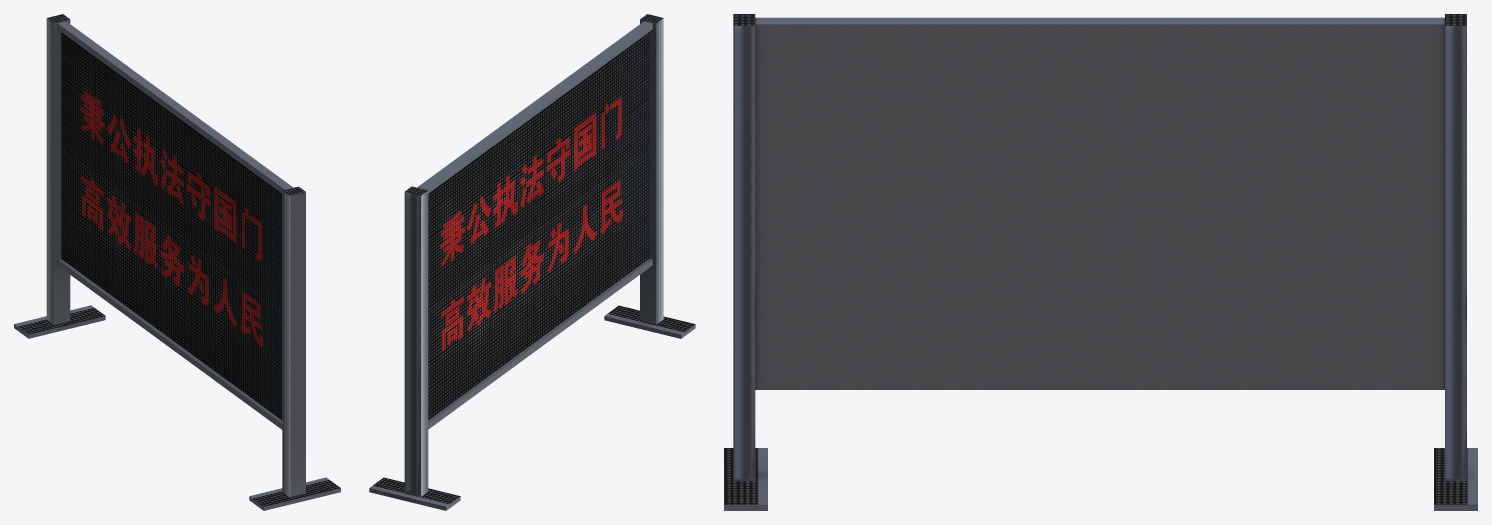
The model's file is 3Dguoji_HGDT_GSP01_ljw.FBX.
3 renders of one model, left to right at view 1: azimuth 30°, elevation 25°; view 2: azimuth 150°, elevation 25°; view 3: azimuth 270°, elevation 25°, orthographic. The views are drawn at different scales.
Parts seen in each view (by area): view 1: 3Dguoji_HGDT_GSP01_ljw; view 2: 3Dguoji_HGDT_GSP01_ljw; view 3: 3Dguoji_HGDT_GSP01_ljw.
Boxes of the visible parts, left/top/right/bottom form: 3Dguoji_HGDT_GSP01_ljw: left=14, top=14, right=340, bottom=510; 3Dguoji_HGDT_GSP01_ljw: left=369, top=14, right=695, bottom=510; 3Dguoji_HGDT_GSP01_ljw: left=724, top=14, right=1477, bottom=510.
Bounding box in the file's own units: 0.4523 × 1.72 × 2.54.
